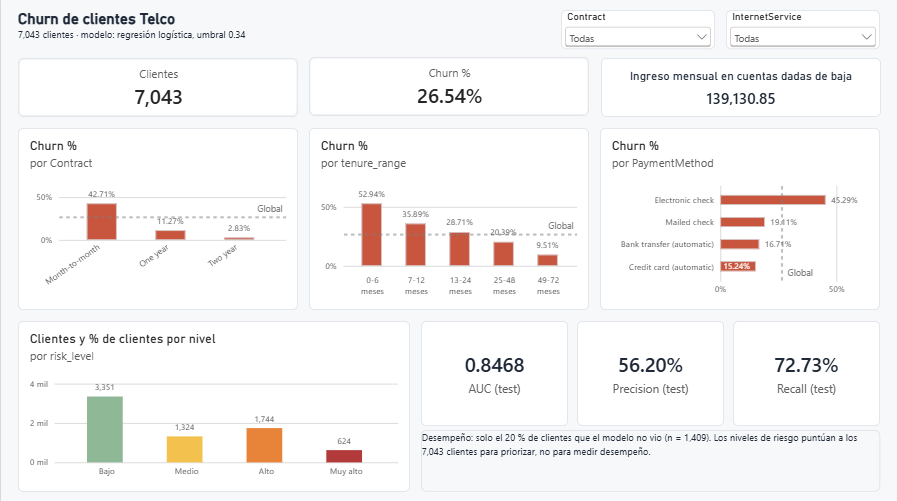

What the dashboard file says about the page in this screenshot:
{"tool":"powerbi","page":{"name":"Página 1","canvas":[1280,720],"ordinal":0},"visuals":[{"type":"textbox","title":"Churn de clientes Telco","box":[24,16,760,48],"z":0},{"type":"slicer","fields":{"Values":["clientes.Contract"]},"box":[800,16,220,56],"z":1000},{"type":"slicer","fields":{"Values":["clientes.InternetService"]},"box":[1036,16,220,56],"z":2000},{"type":"clusteredColumnChart","fields":{"Category":["clientes.Contract"],"Y":["clientes.Churn %"]},"box":[24,184,400,260],"z":3000},{"type":"clusteredColumnChart","fields":{"Category":["clientes.tenure_range"],"Y":["clientes.Churn %"]},"box":[440,184,400,260],"z":4000},{"type":"clusteredBarChart","fields":{"Category":["clientes.PaymentMethod"],"Y":["clientes.Churn %"]},"box":[856.4,184,400,260],"z":5000},{"type":"clusteredColumnChart","fields":{"Category":["clientes.risk_level"],"Y":["clientes.Clientes"]},"box":[24,460,560,244],"z":6000},{"type":"card","fields":{"Values":["clientes.AUC (test)"]},"box":[600,460,210,150],"z":7000},{"type":"card","fields":{"Values":["clientes.Precision (test)"]},"box":[823,460,210,150],"z":8000},{"type":"card","fields":{"Values":["clientes.Recall (test)"]},"box":[1046,460,210,150],"z":9000},{"type":"textbox","box":[600,616,656,88],"z":10000},{"type":"card","title":"Ingreso mensual en cuentas dadas de baja","fields":{"Values":["clientes.Ingreso mensual en bajas"]},"box":[856.7,84,400,84],"z":11000},{"type":"cardVisual","fields":{"Data":["clientes.Clientes"]},"box":[24,84,400,84],"z":12000},{"type":"cardVisual","fields":{"Data":["clientes.Churn %"]},"box":[440,83.3,400,84],"z":13000}]}

Visuals, with their boxes in screenshot pixels (x1, y1, x2, y2), scaled from the page's 1280x720 canvas onto the 897x501 screenshot:
"Churn de clientes Telco" textbox: (17,11,549,45)
slicer - clientes.Contract: (561,11,715,50)
slicer - clientes.InternetService: (726,11,880,50)
clusteredColumnChart - clientes.Contract x clientes.Churn %: (17,128,297,309)
clusteredColumnChart - clientes.tenure_range x clientes.Churn %: (308,128,589,309)
clusteredBarChart - clientes.PaymentMethod x clientes.Churn %: (600,128,880,309)
clusteredColumnChart - clientes.risk_level x clientes.Clientes: (17,320,409,490)
card - clientes.AUC (test): (420,320,568,424)
card - clientes.Precision (test): (577,320,724,424)
card - clientes.Recall (test): (733,320,880,424)
textbox: (420,429,880,490)
"Ingreso mensual en cuentas dadas de baja" card: (600,58,881,117)
cardVisual - clientes.Clientes: (17,58,297,117)
cardVisual - clientes.Churn %: (308,58,589,116)
